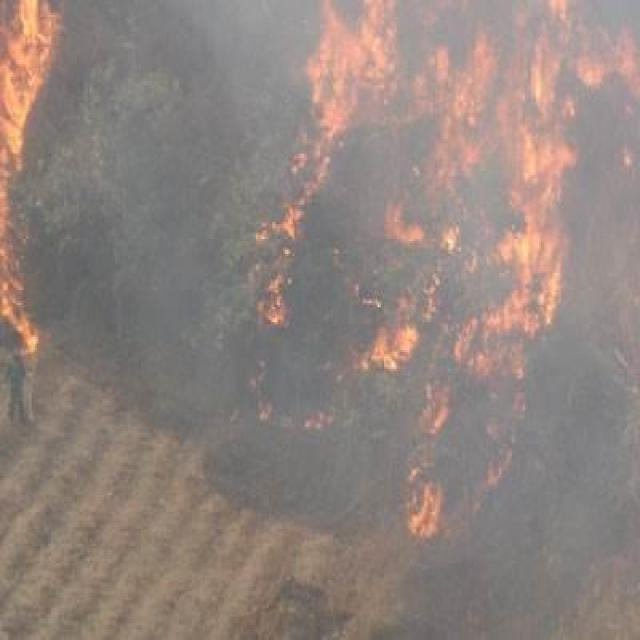fire: (253, 1, 620, 546), (0, 1, 51, 374)
